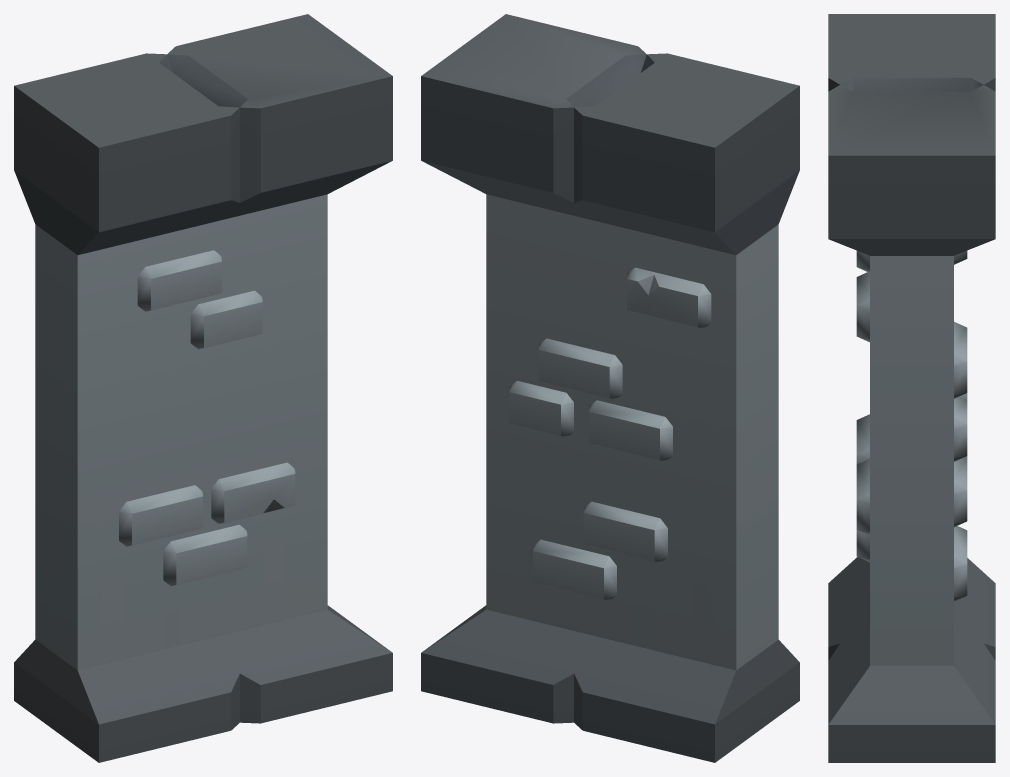
File: wall-half-endcap-gltf.glb
The picture shows the model from 3 angles, left to right: view 1: azimuth 30°, elevation 25°; view 2: azimuth 150°, elevation 25°; view 3: azimuth 270°, elevation 25°; orthographic projection.
Parts seen in each view (by area): view 1: wall_half_endcap; view 2: wall_half_endcap; view 3: wall_half_endcap.
Part boxes in pixels (box(x1,y1,x2,y2)): wall_half_endcap: box(14, 14, 392, 762); wall_half_endcap: box(421, 14, 799, 762); wall_half_endcap: box(828, 14, 995, 762).
Bounding box in the file's own units: 2 × 4 × 1.
1 material, 1 textured.
